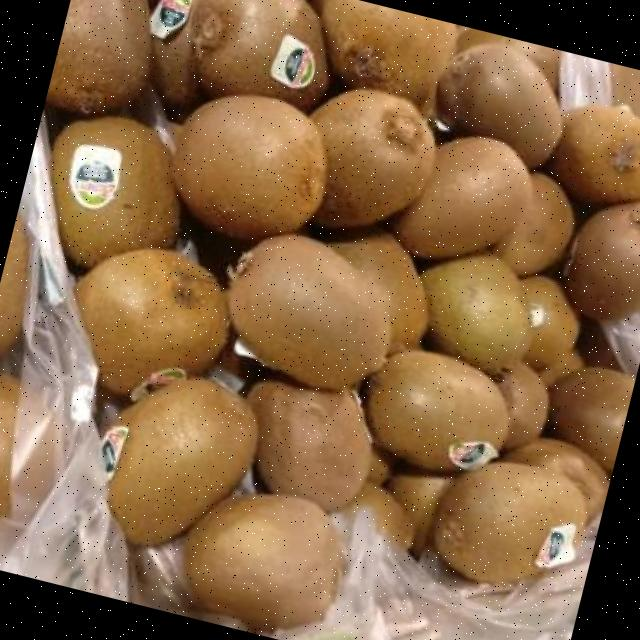kiwi: (228, 235, 390, 389), (108, 380, 253, 544), (175, 96, 325, 241), (184, 494, 341, 629), (79, 251, 226, 395), (51, 116, 179, 268), (435, 462, 587, 583), (365, 350, 509, 469), (393, 136, 531, 259), (314, 89, 435, 224), (250, 381, 371, 510), (437, 43, 562, 167), (320, 0, 455, 114), (193, 0, 329, 109), (421, 254, 531, 367), (45, 0, 151, 114), (331, 232, 427, 344), (545, 106, 640, 205), (549, 367, 635, 473), (565, 201, 640, 320), (504, 438, 609, 522), (493, 173, 574, 276), (151, 0, 215, 106), (519, 277, 579, 371), (388, 478, 453, 555), (497, 364, 548, 450), (350, 484, 412, 546), (0, 217, 28, 353), (0, 378, 19, 522), (539, 348, 584, 387), (365, 449, 390, 487)
